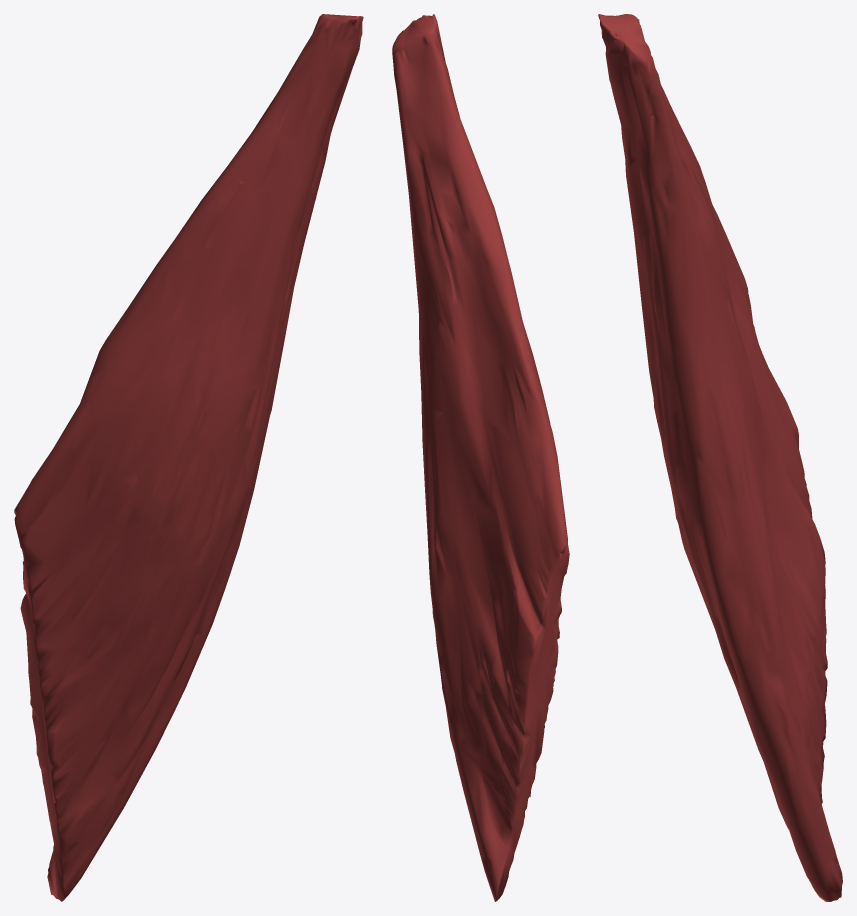
The model's file is adductor-longus-r.glb.
3 renders of one model, left to right at view 1: azimuth 30°, elevation 25°; view 2: azimuth 150°, elevation 25°; view 3: azimuth 270°, elevation 25°, orthographic. The views are drawn at different scales.
Visible parts, largest first — view 1: Adductor longus.r; view 2: Adductor longus.r; view 3: Adductor longus.r.
Part boxes in pixels (x1,y1,x2,y2): Adductor longus.r: [14, 14, 363, 901]; Adductor longus.r: [392, 14, 569, 901]; Adductor longus.r: [598, 14, 842, 901].
Bounding box in the file's own units: 0.0831 × 0.2648 × 0.0598.
